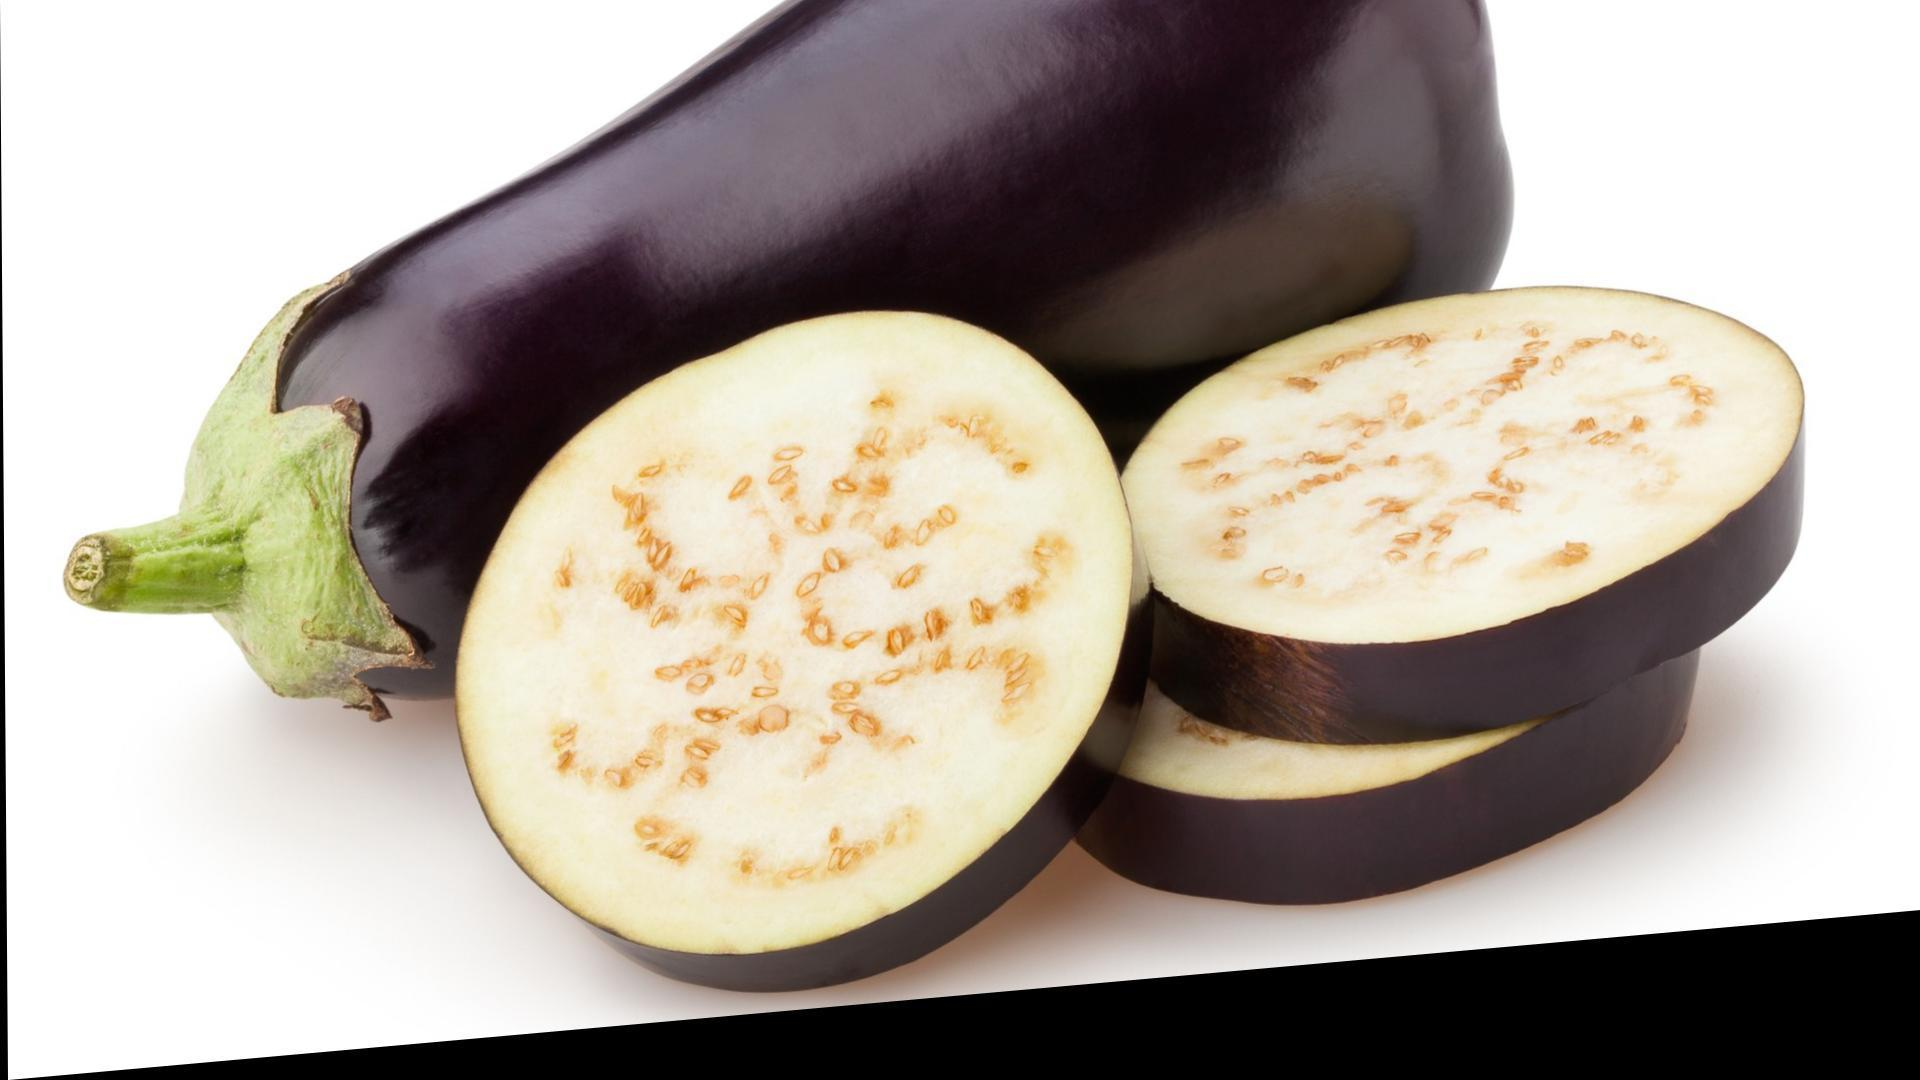eggplant: (414, 1, 1651, 994)
